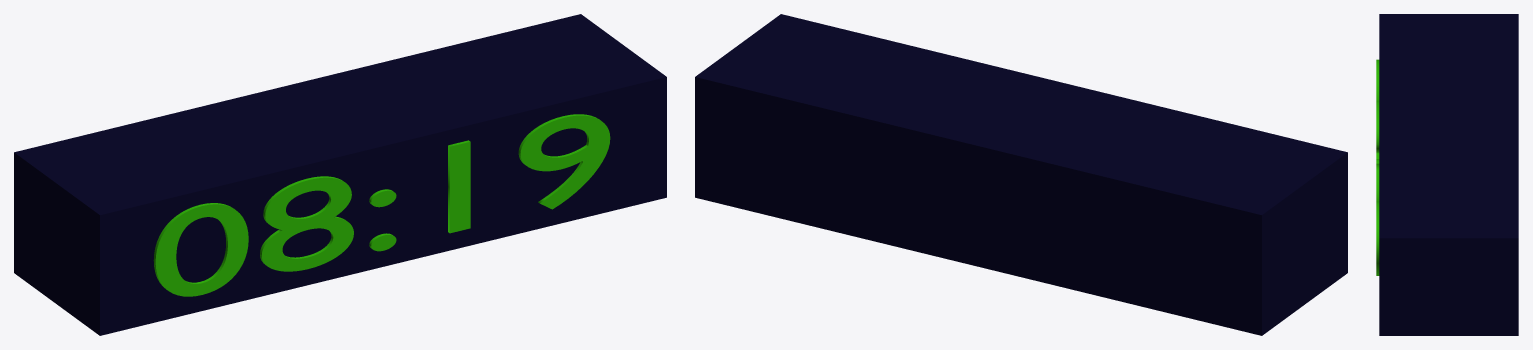
The model's file is Cooker Unit (Oven Clock).fbx.
The picture shows the model from 3 angles, left to right: view 1: azimuth 30°, elevation 25°; view 2: azimuth 150°, elevation 25°; view 3: azimuth 270°, elevation 25°; orthographic projection. The views are drawn at different scales.
Parts seen in each view (by area): view 1: Clock Section, Text; view 2: Clock Section; view 3: Clock Section, Text.
Part boxes in pixels (<box>): Clock Section: <box>14,14,666,335</box>; Text: <box>153,114,610,296</box>; Clock Section: <box>695,14,1347,335</box>; Clock Section: <box>1379,14,1518,335</box>; Text: <box>1376,59,1379,275</box>.
Bounding box in the file's own units: 0.1442 × 0.0293 × 0.0387.
2 materials, 2 textured.
